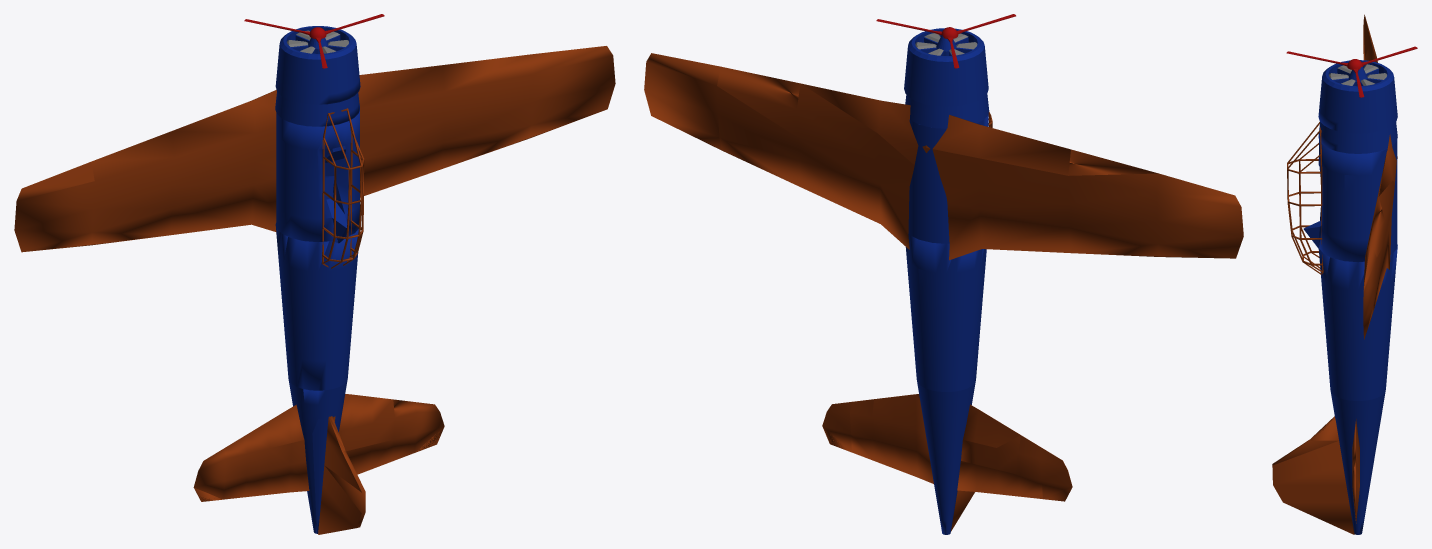
3 renders of one model, left to right at view 1: azimuth 30°, elevation 25°; view 2: azimuth 150°, elevation 25°; view 3: azimuth 270°, elevation 25°, orthographic. The views are drawn at different scales.
Visible parts, largest first — view 1: cilindrai, Sphere002; view 2: cilindrai, Sphere002; view 3: cilindrai, Sphere002.
Part boxes in pixels (x1,y1,x2,y2): cilindrai: (14,26,615,534); Sphere002: (244,14,384,68); cilindrai: (644,28,1243,534); Sphere002: (876,14,1015,68); cilindrai: (1272,14,1397,534); Sphere002: (1286,46,1417,97).
Size of the model in its own units: 0.3923 by 0.3157 by 0.0877.
